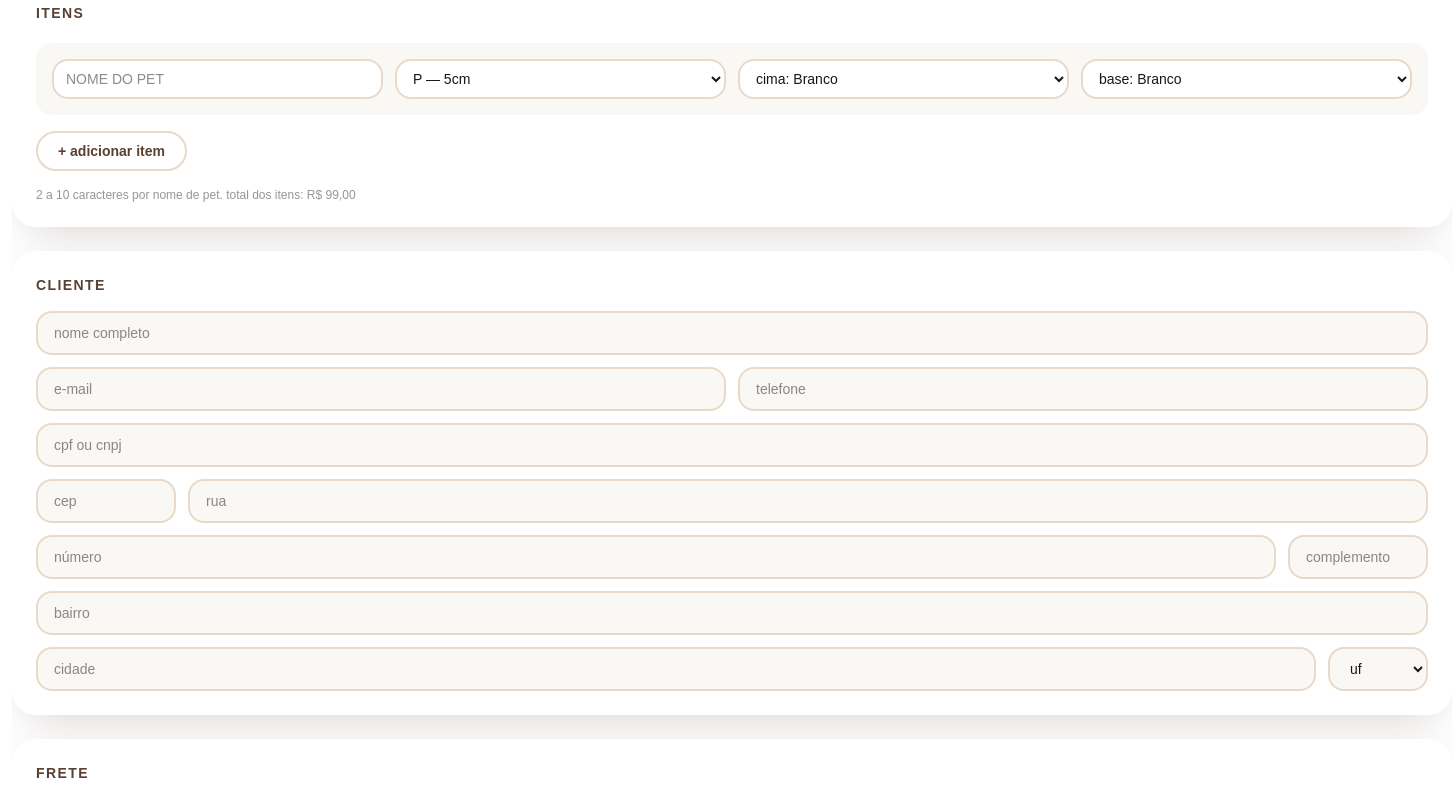
it: NovoPedidoForm — submit › cota o frete ao sair do campo de cep e permite selecionar uma opção
This screenshot has width=1452, height=789.
In the field with placeholder "cep": (106, 501) [36,479,176,523], type "01310-100"
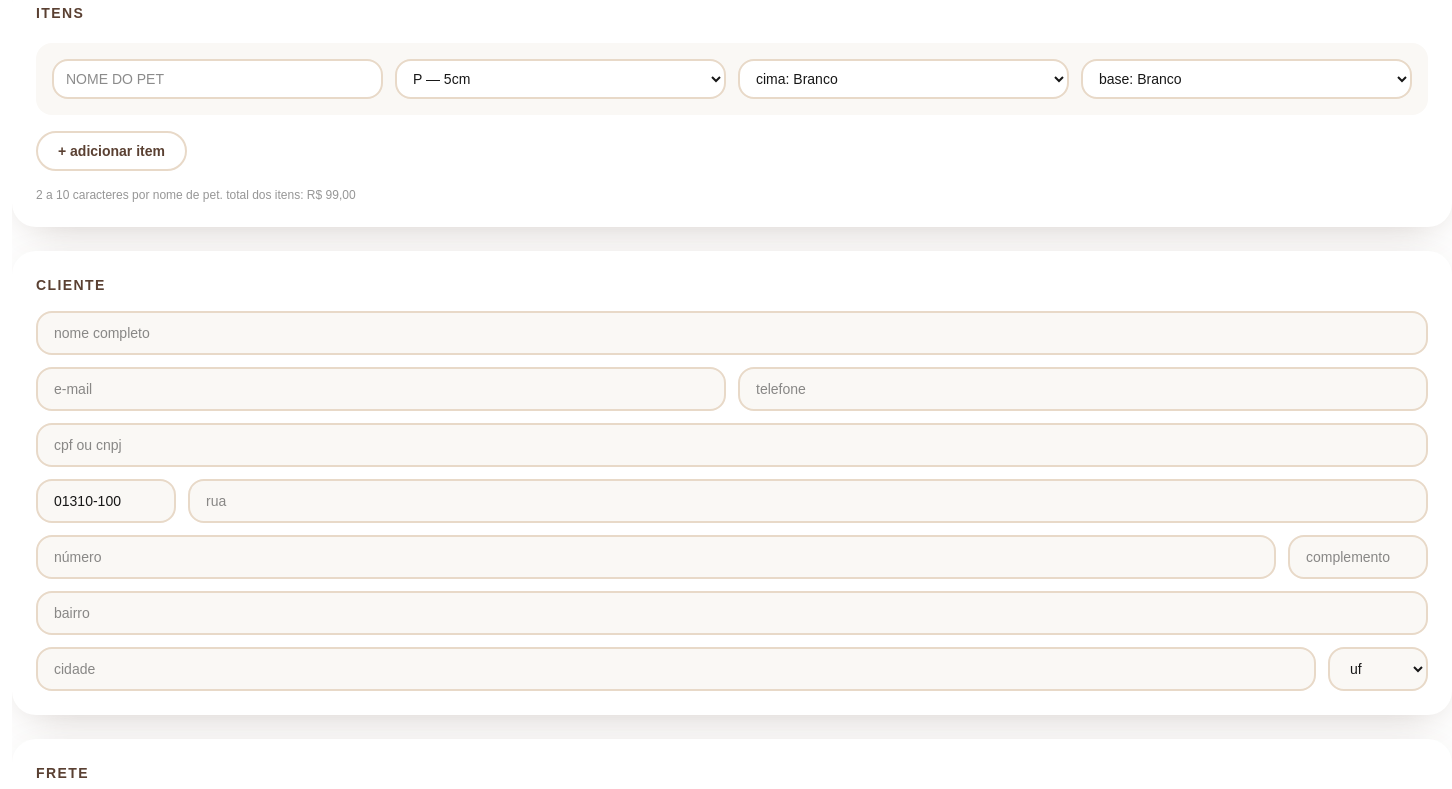
Leave the field with placeholder "cep", box [36,479,176,523]
(page scrolled)
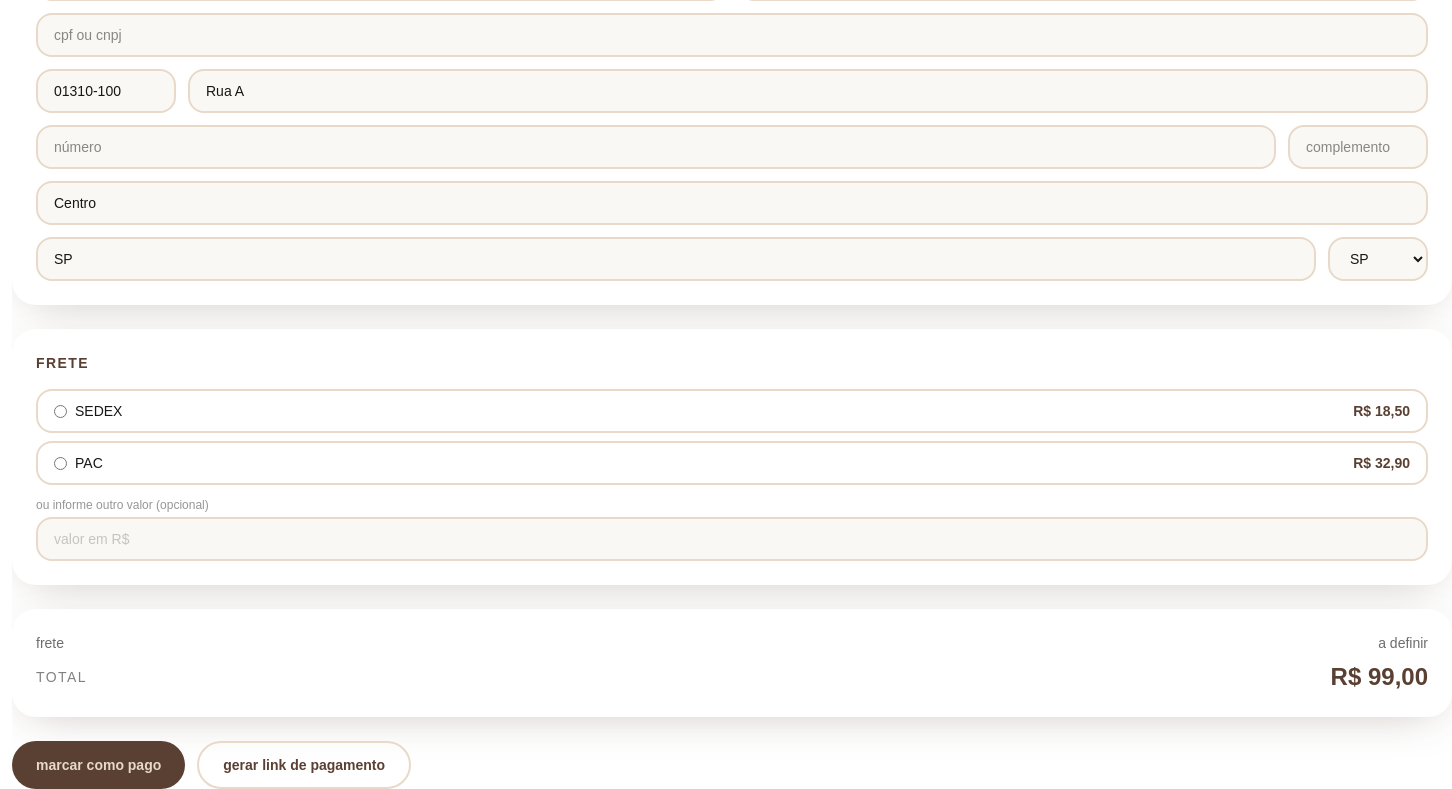
Expected: the text "SEDEX" is shown
Expected: the text "PAC" is shown, [54,453,103,473]
Click the text "SEDEX": (88, 411) [54,401,122,421]
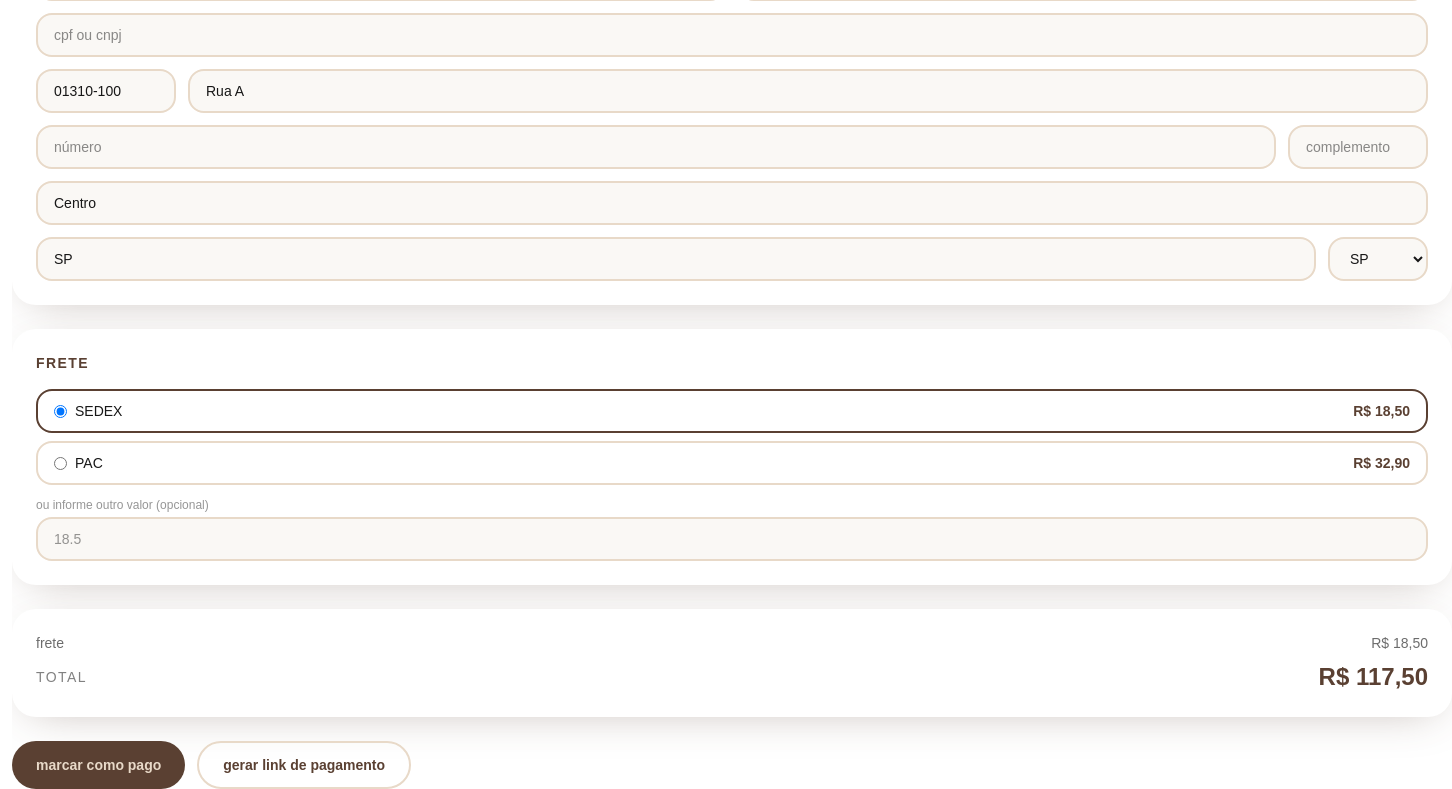
Expected: the text "R$ 117,50" is shown, [1319,661,1428,693]
